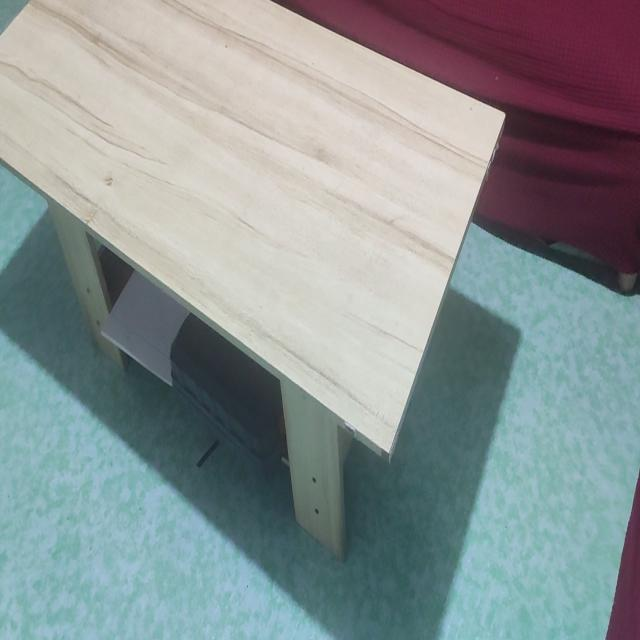table: (0, 0, 505, 538)
